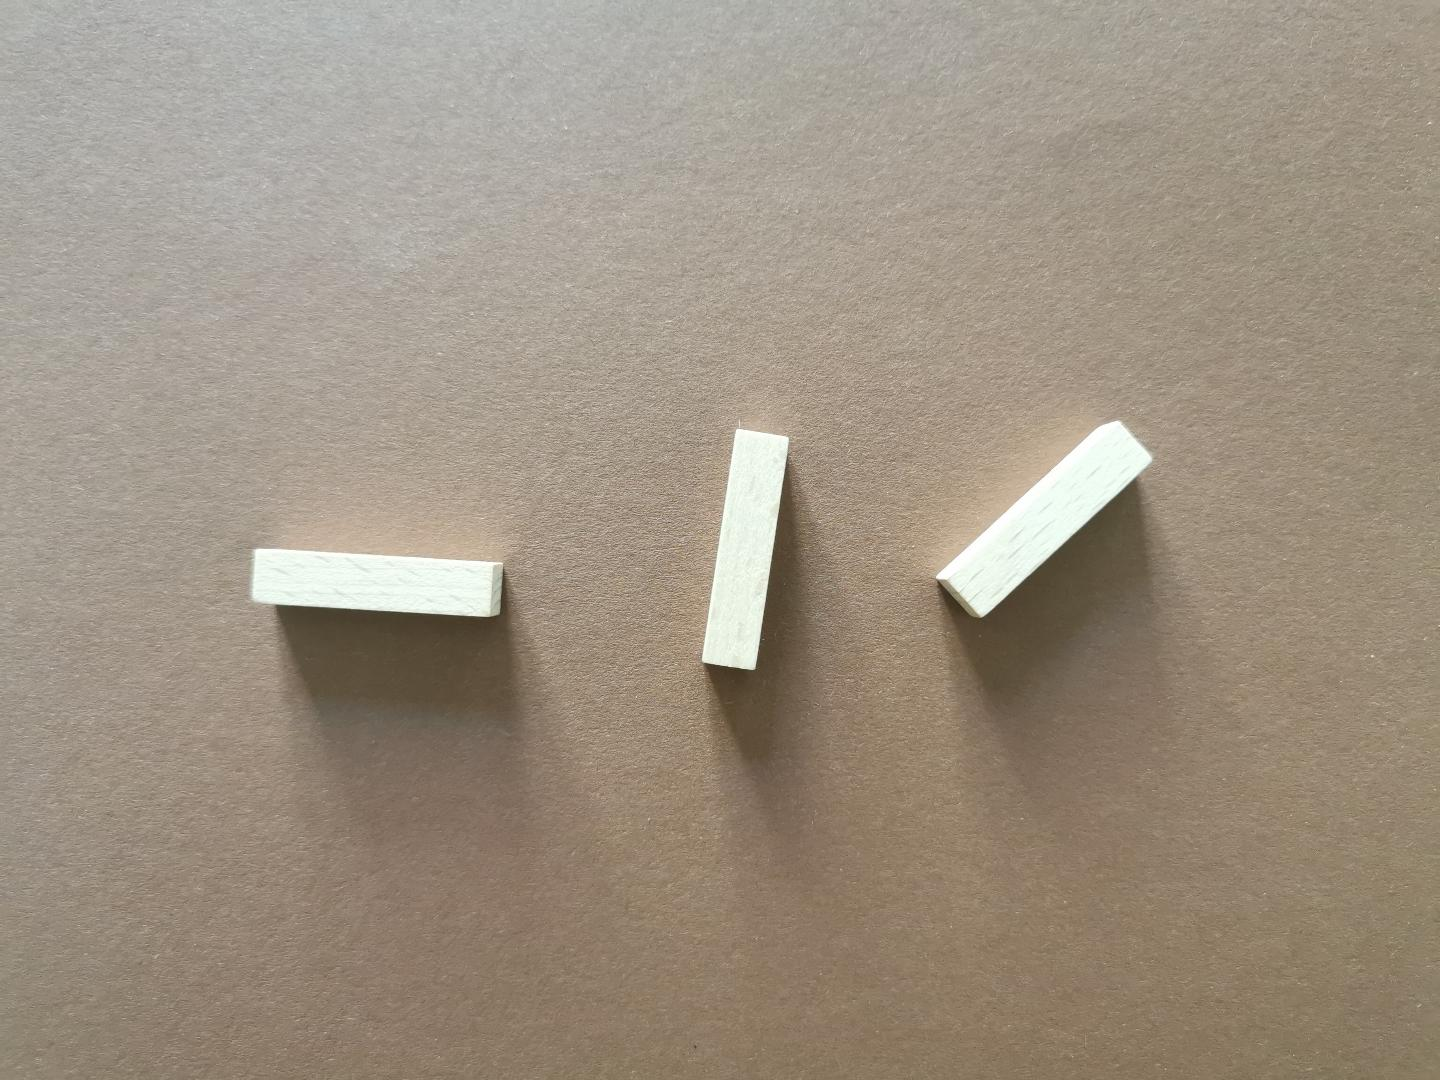jenga: (937, 422, 1153, 616), (703, 430, 790, 669), (251, 548, 503, 616)
